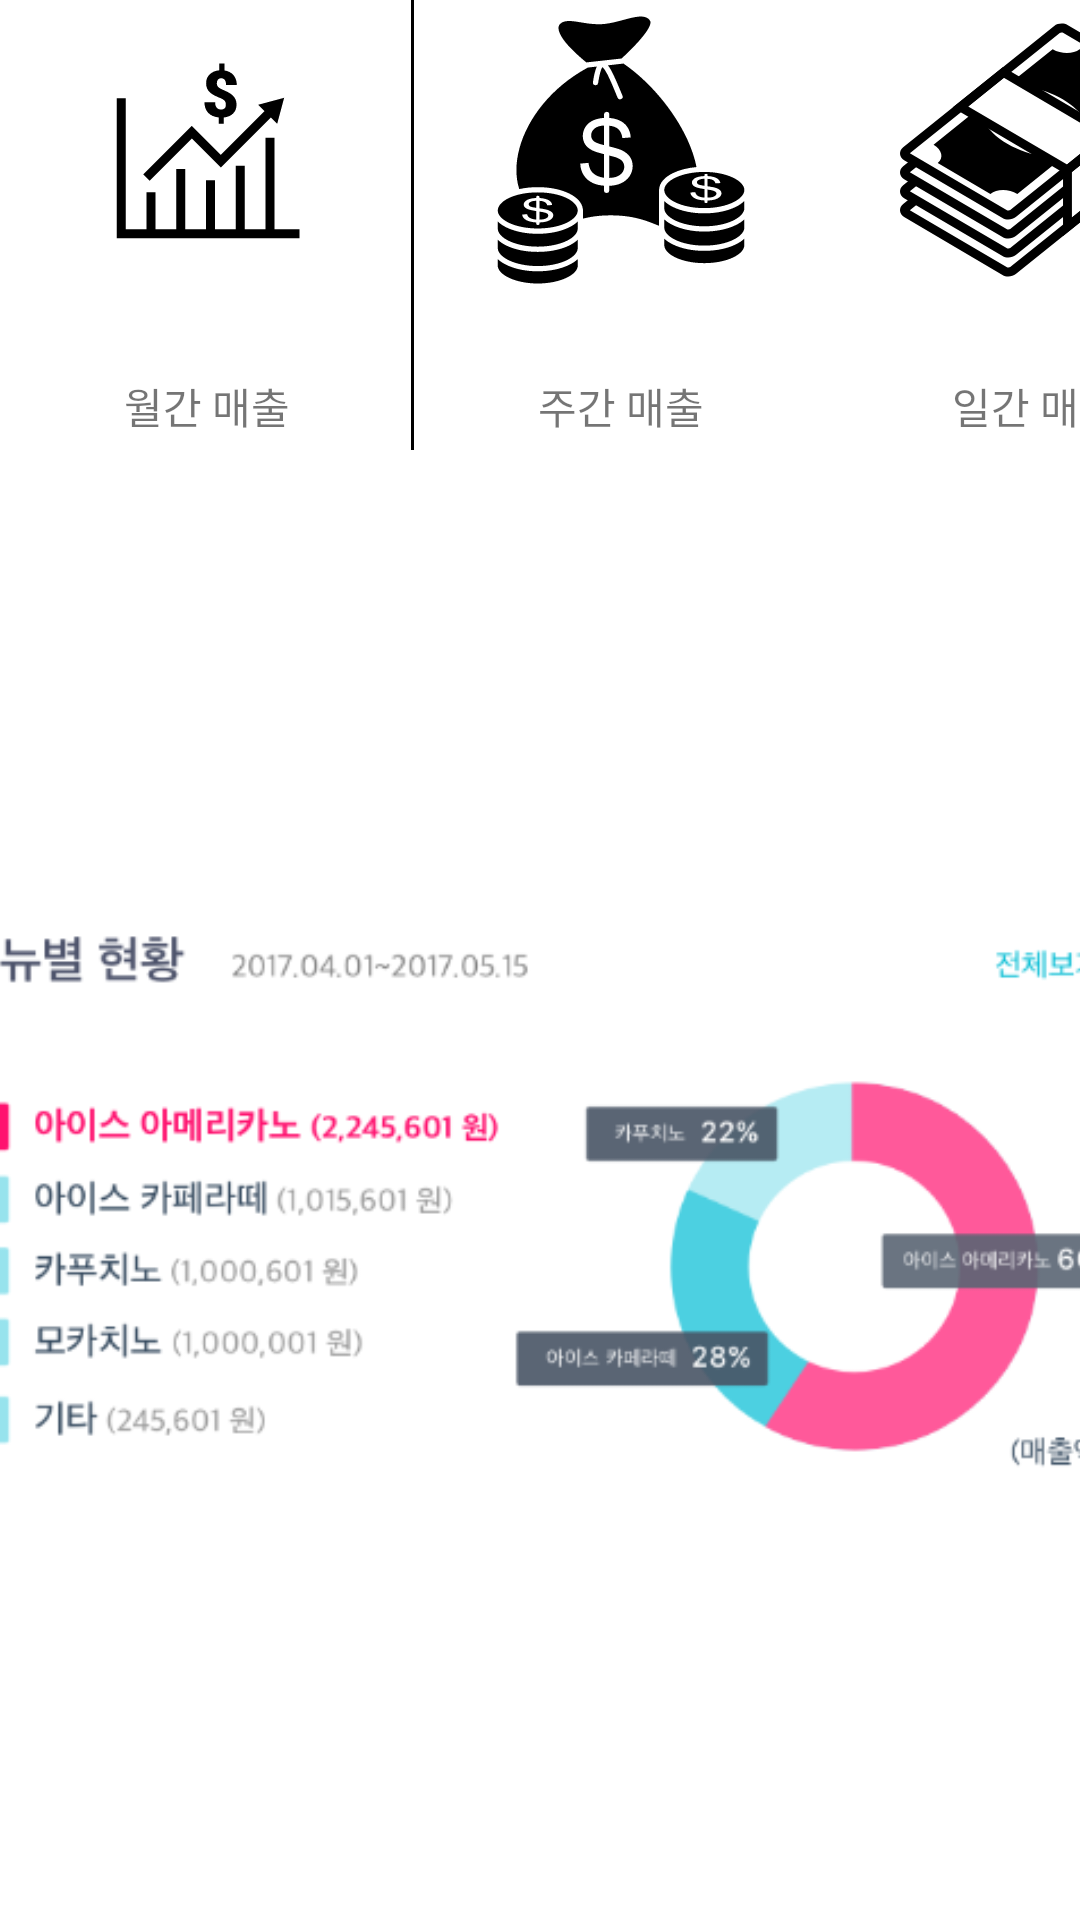

Point at icon controls on the screen. Image size 1080×1920, points as [x,y].
month money: [208,151]
weekly money: [621,150]
